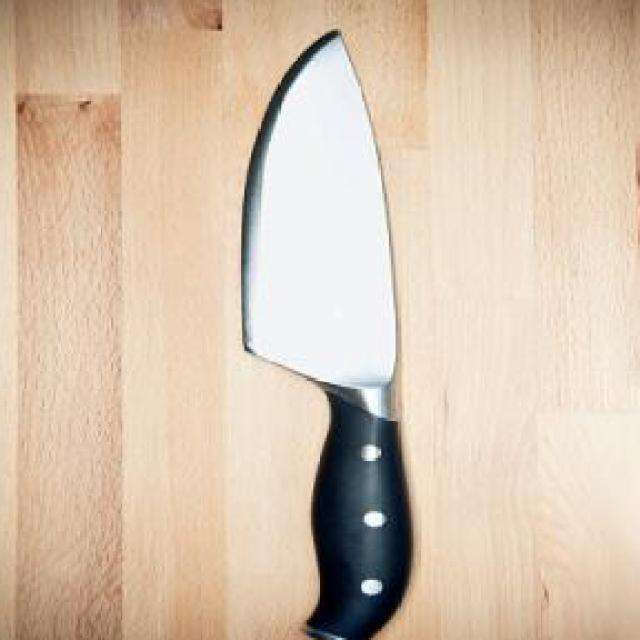knife: (209, 31, 453, 640)
